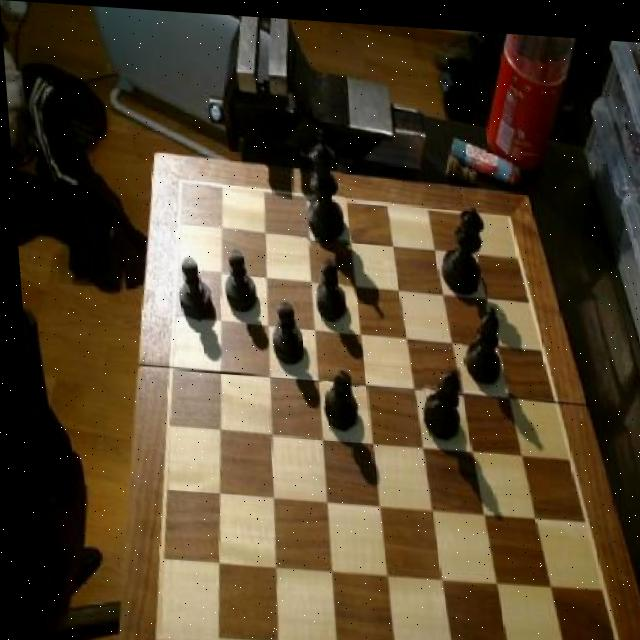bishop: (454, 297, 505, 383), (412, 356, 461, 441)
black-bishop: (294, 124, 346, 245)
black-knight: (313, 362, 356, 432), (171, 254, 211, 327), (264, 299, 301, 365), (217, 246, 254, 312), (306, 252, 341, 318)
black-pawn: (435, 198, 486, 293)
